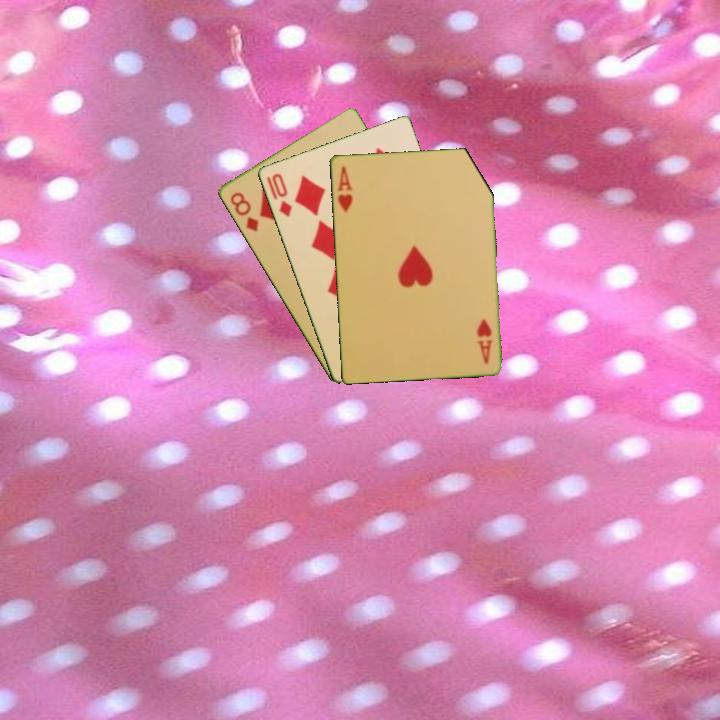10d: (268, 169, 295, 220)
8d: (226, 188, 261, 235)
Ah: (333, 163, 355, 215), (474, 315, 495, 367)
